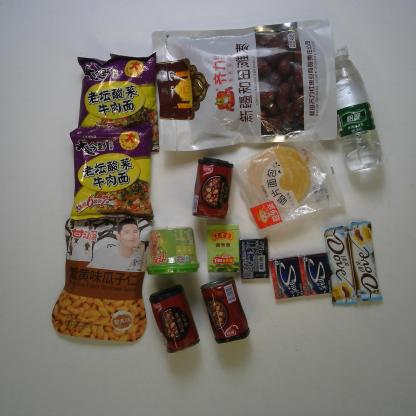Candy: (206, 224, 240, 274)
Canned Food: (148, 283, 200, 354), (200, 277, 250, 345), (191, 155, 234, 221)
Chocolate: (322, 225, 360, 307), (348, 219, 382, 302)
Dessert: (231, 127, 346, 240)
Dried Food: (150, 18, 339, 152)
Dried Fruit: (51, 214, 152, 343)
Drink: (332, 42, 384, 175)
Gum: (268, 254, 304, 300), (298, 251, 333, 297), (238, 237, 270, 280)
Instant Drink: (145, 226, 201, 276)
Instant Noodles: (69, 120, 155, 224), (76, 51, 161, 155)
